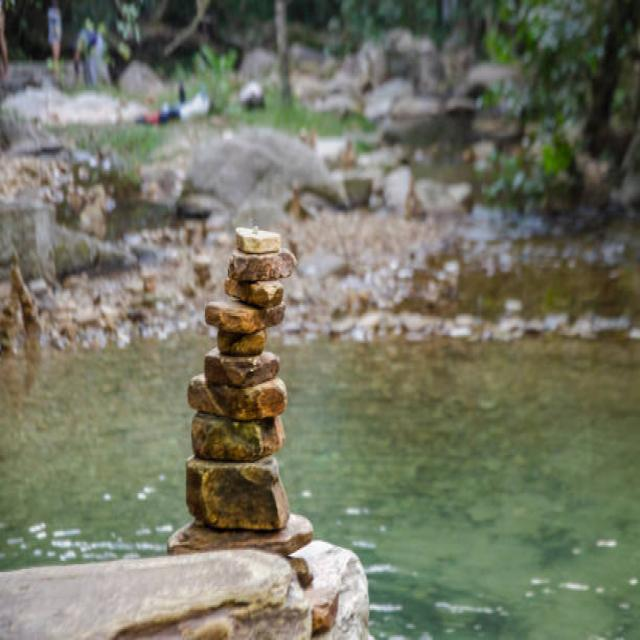Metamorphic: (196, 215, 308, 559)
